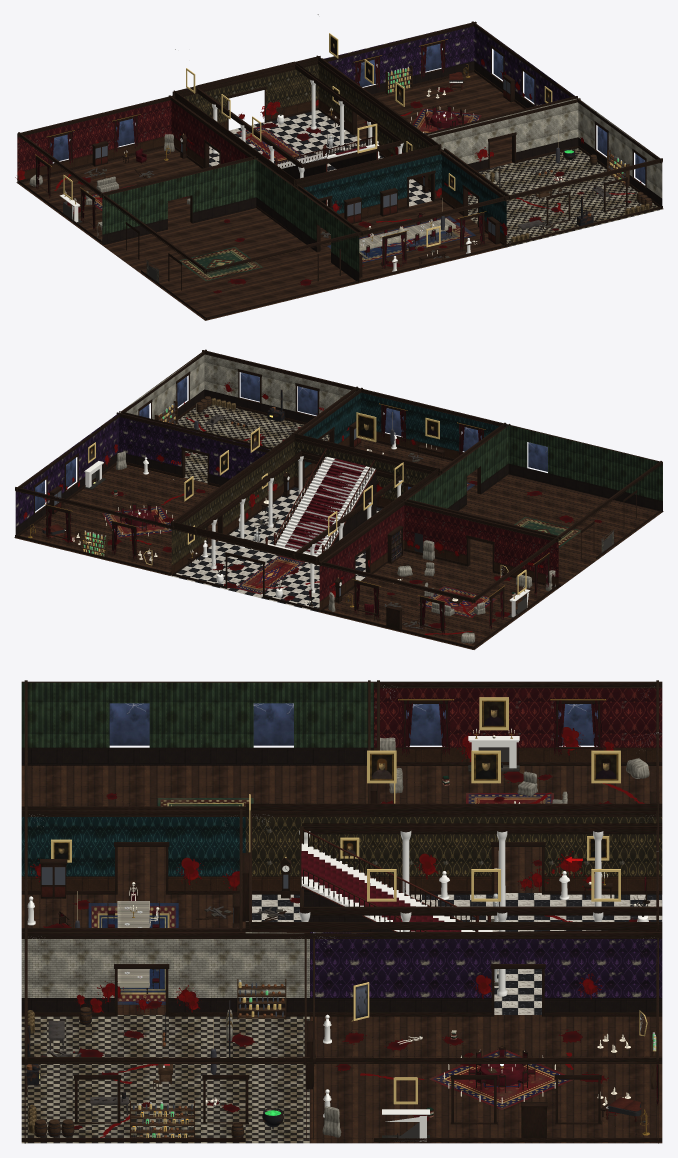
Rendered from house_ground_v13.glb.
The picture shows the model from 3 angles, top to bottom: view 1: azimuth 30°, elevation 25°; view 2: azimuth 150°, elevation 25°; view 3: azimuth 270°, elevation 25°; orthographic projection. The views are drawn at different scales.
Parts seen in each view (by area): view 1: house_ground; view 2: house_ground; view 3: house_ground.
Part boxes in pixels (x1,y1,x2,y2): house_ground: [15, 14, 663, 320]; house_ground: [14, 349, 663, 649]; house_ground: [21, 680, 662, 1143].
Size of the model in its own units: 56.48 by 11.45 by 40.58.
Materials: 80 (62 with a texture image).
